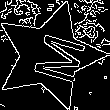M_W: (17, 26, 82, 85)
